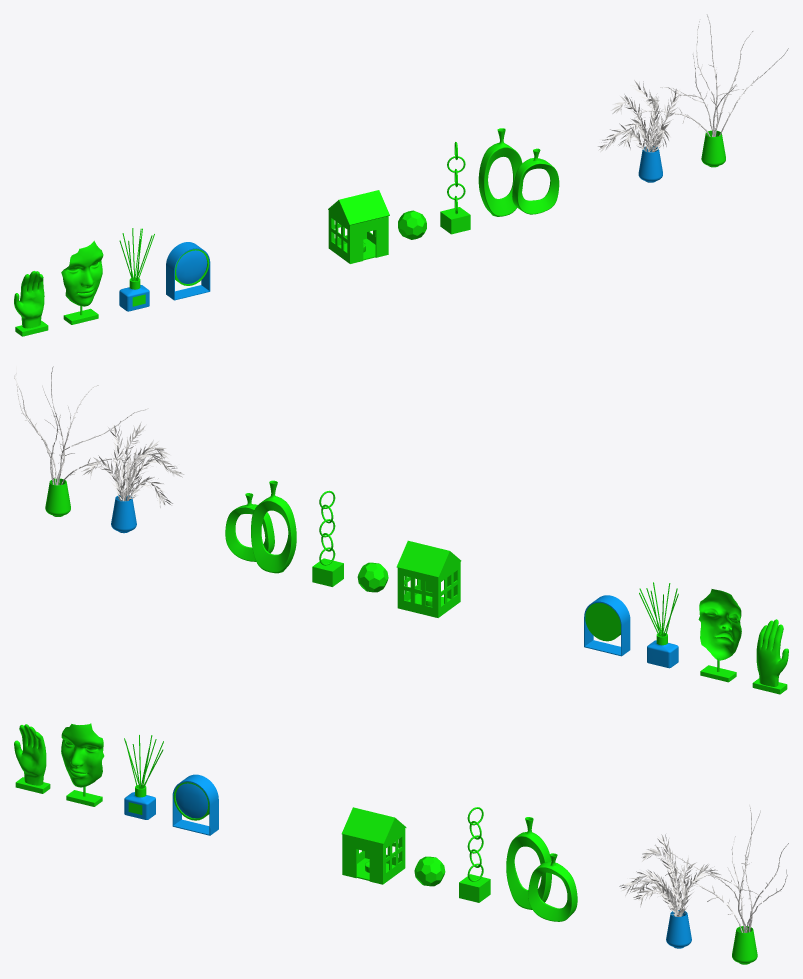
The model's file is Props_Relaxroom.FBX.
The picture shows the model from 3 angles, top to bottom: view 1: azimuth 30°, elevation 25°; view 2: azimuth 150°, elevation 25°; view 3: azimuth 330°, elevation 25°; orthographic projection. The views are drawn at different scales.
Parts seen in each view (by area): view 1: Props_Relaxroom_House, Props_Relaxroom_Vases, Props_Relaxroom_Mask, Props_Relaxroom_Plant1, Props_Relaxroom_Clock_Glass, Props_Relaxroom_Hand, Props_Relaxroom_Plant2, Props_Relaxroom_Chain, Props_Relaxroom_Perfume, Props_Relaxroom_Plant2_Vase, Props_Relaxroom_Plant1_Glass, Props_Relaxroom_Geometry; view 2: Props_Relaxroom_House, Props_Relaxroom_Vases, Props_Relaxroom_Mask, Props_Relaxroom_Plant1, Props_Relaxroom_Hand, Props_Relaxroom_Clock_Glass, Props_Relaxroom_Plant2, Props_Relaxroom_Chain, Props_Relaxroom_Clock, Props_Relaxroom_Plant2_Vase, Props_Relaxroom_Perfume, Props_Relaxroom_Plant1_Glass (+2 smaller); view 3: Props_Relaxroom_House, Props_Relaxroom_Vases, Props_Relaxroom_Mask, Props_Relaxroom_Plant1, Props_Relaxroom_Clock_Glass, Props_Relaxroom_Hand, Props_Relaxroom_Plant2, Props_Relaxroom_Chain, Props_Relaxroom_Perfume, Props_Relaxroom_Plant2_Vase, Props_Relaxroom_Plant1_Glass, Props_Relaxroom_Geometry (+1 smaller).
Boxes of the visible parts, left/top/right/bottom form: Props_Relaxroom_House: left=328, top=190, right=389, bottom=263; Props_Relaxroom_Vases: left=478, top=128, right=559, bottom=216; Props_Relaxroom_Mask: left=61, top=240, right=103, bottom=324; Props_Relaxroom_Plant1: left=598, top=80, right=680, bottom=152; Props_Relaxroom_Clock_Glass: left=166, top=242, right=210, bottom=300; Props_Relaxroom_Hand: left=14, top=271, right=48, bottom=336; Props_Relaxroom_Plant2: left=634, top=14, right=788, bottom=136; Props_Relaxroom_Chain: left=440, top=142, right=470, bottom=234; Props_Relaxroom_Perfume: left=119, top=228, right=154, bottom=306; Props_Relaxroom_Plant2_Vase: left=701, top=130, right=725, bottom=167; Props_Relaxroom_Plant1_Glass: left=638, top=146, right=662, bottom=182; Props_Relaxroom_Geometry: left=398, top=210, right=426, bottom=239; Props_Relaxroom_House: left=396, top=540, right=461, bottom=617; Props_Relaxroom_Vases: left=225, top=480, right=296, bottom=573; Props_Relaxroom_Mask: left=698, top=589, right=741, bottom=682; Props_Relaxroom_Plant1: left=81, top=421, right=184, bottom=507; Props_Relaxroom_Hand: left=752, top=619, right=788, bottom=694; Props_Relaxroom_Clock_Glass: left=584, top=595, right=630, bottom=656; Props_Relaxroom_Plant2: left=14, top=366, right=148, bottom=485; Props_Relaxroom_Chain: left=312, top=490, right=343, bottom=586; Props_Relaxroom_Clock: left=585, top=603, right=620, bottom=641; Props_Relaxroom_Plant2_Vase: left=45, top=478, right=70, bottom=516; Props_Relaxroom_Perfume: left=639, top=582, right=678, bottom=645; Props_Relaxroom_Plant1_Glass: left=111, top=495, right=136, bottom=533; Props_Relaxroom_House: left=341, top=807, right=406, bottom=884; Props_Relaxroom_Vases: left=506, top=817, right=577, bottom=921; Props_Relaxroom_Mask: left=61, top=723, right=104, bottom=806; Props_Relaxroom_Plant1: left=619, top=834, right=720, bottom=916; Props_Relaxroom_Clock_Glass: left=172, top=774, right=218, bottom=835; Props_Relaxroom_Hand: left=14, top=724, right=50, bottom=793; Props_Relaxroom_Plant2: left=654, top=804, right=788, bottom=932; Props_Relaxroom_Chain: left=459, top=807, right=490, bottom=902; Props_Relaxroom_Perfume: left=124, top=735, right=163, bottom=814; Props_Relaxroom_Plant2_Vase: left=732, top=926, right=757, bottom=964; Props_Relaxroom_Plant1_Glass: left=666, top=910, right=691, bottom=948; Props_Relaxroom_Geometry: left=414, top=856, right=445, bottom=886.
Size of the model in its own units: 2.51 by 0.4658 by 0.2877.
